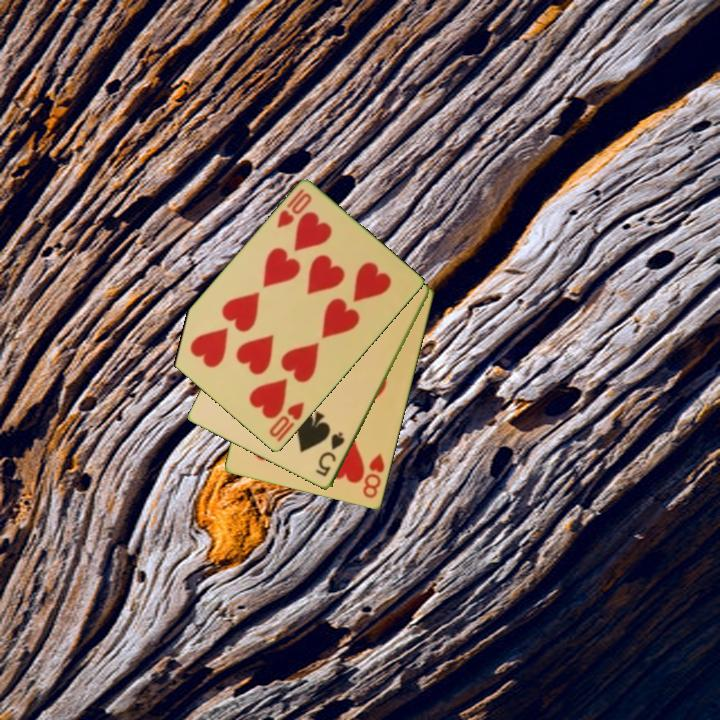10h: (266, 398, 307, 445), (273, 186, 315, 231)
5s: (312, 429, 348, 480)
8h: (359, 450, 388, 502)
